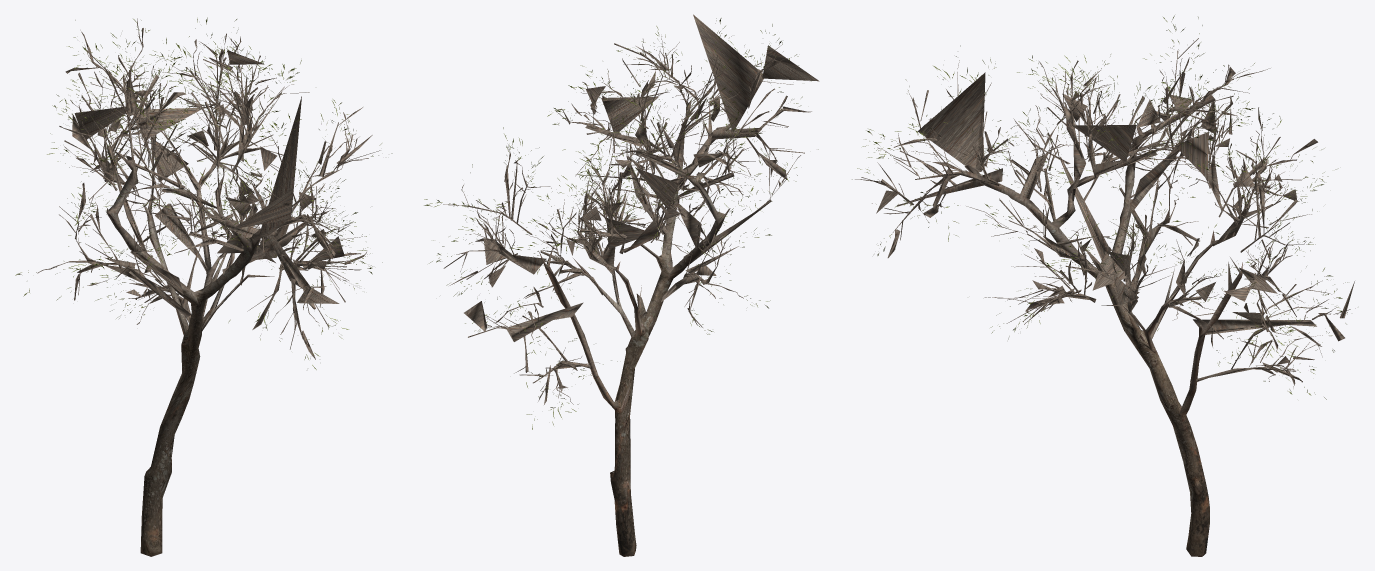
3 views of the same model, side by side, from view 1: azimuth 30°, elevation 25°; view 2: azimuth 150°, elevation 25°; view 3: azimuth 270°, elevation 25° (orthographic). The views are drawn at different scales.
Visible parts, largest first — view 1: tree_small_02_LOD0.001, tree_small_02_LOD0, tree_small_02_LOD0.002; view 2: tree_small_02_LOD0.001, tree_small_02_LOD0, tree_small_02_LOD0.002; view 3: tree_small_02_LOD0.001, tree_small_02_LOD0, tree_small_02_LOD0.002.
Boxes of the visible parts, x1,y1,x2,y2 form: tree_small_02_LOD0.001: (37,18,380,359); tree_small_02_LOD0: (106,156,277,556); tree_small_02_LOD0.002: (15,17,392,369); tree_small_02_LOD0.001: (443,14,819,404); tree_small_02_LOD0: (539,124,730,556); tree_small_02_LOD0.002: (424,18,818,429); tree_small_02_LOD0.001: (855,38,1354,388); tree_small_02_LOD0: (964,123,1242,556); tree_small_02_LOD0.002: (852,15,1355,399).
Size of the model in its own units: 2.86 by 4.53 by 4.18.
Materials: 3 (3 with a texture image).
